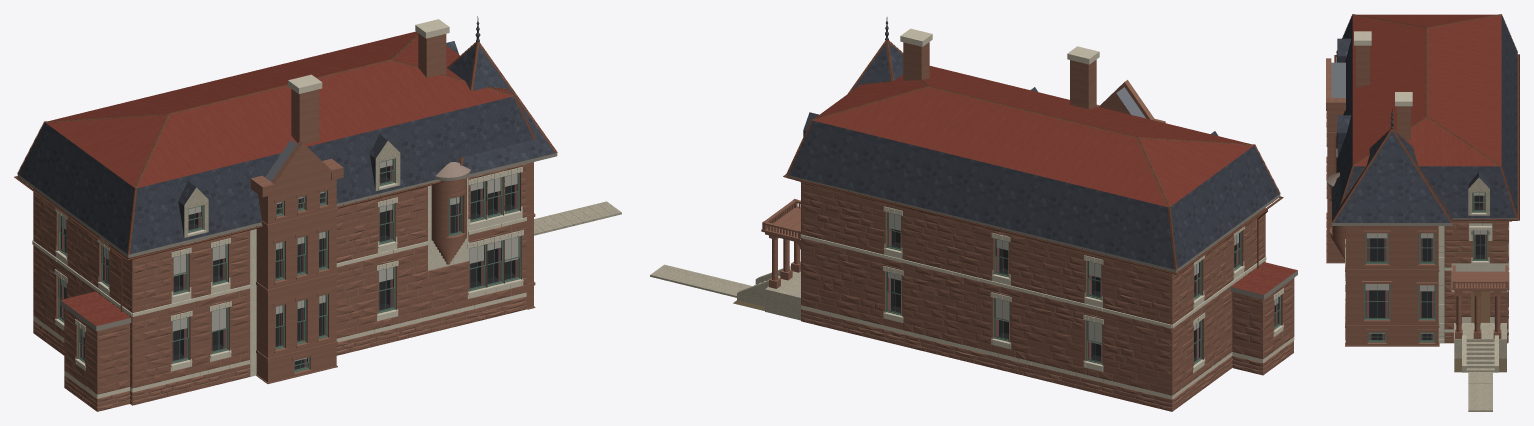
The model's file is hanford_house_2008_calumet__as_mapped_1904.glb.
3 views of the same model, side by side, from view 1: azimuth 30°, elevation 25°; view 2: azimuth 150°, elevation 25°; view 3: azimuth 270°, elevation 25° (orthographic). The views are drawn at different scales.
Parts seen in each view (by area): view 1: hanford_house_2008_calumet__as_mapped_1904; view 2: hanford_house_2008_calumet__as_mapped_1904; view 3: hanford_house_2008_calumet__as_mapped_1904.
Boxes of the visible parts, box(x1,y1,x2,y2) form: hanford_house_2008_calumet__as_mapped_1904: box(14, 16, 621, 411); hanford_house_2008_calumet__as_mapped_1904: box(650, 17, 1297, 411); hanford_house_2008_calumet__as_mapped_1904: box(1326, 14, 1519, 411).
Bounding box in the file's own units: 36.63 × 16.39 × 12.52.
Materials: 22 (10 with a texture image).
